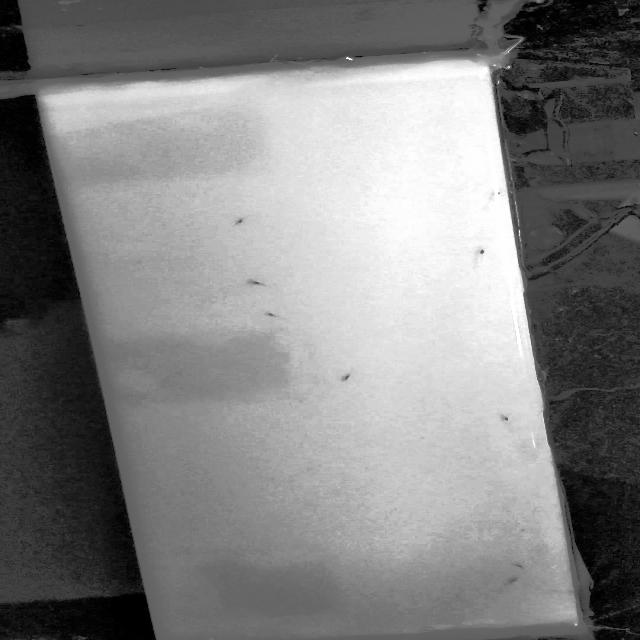shrimp: (236, 273, 282, 289), (490, 410, 523, 432), (465, 243, 497, 264), (256, 306, 290, 324), (499, 572, 531, 590), (330, 370, 364, 386), (220, 213, 256, 228), (511, 560, 538, 576)
